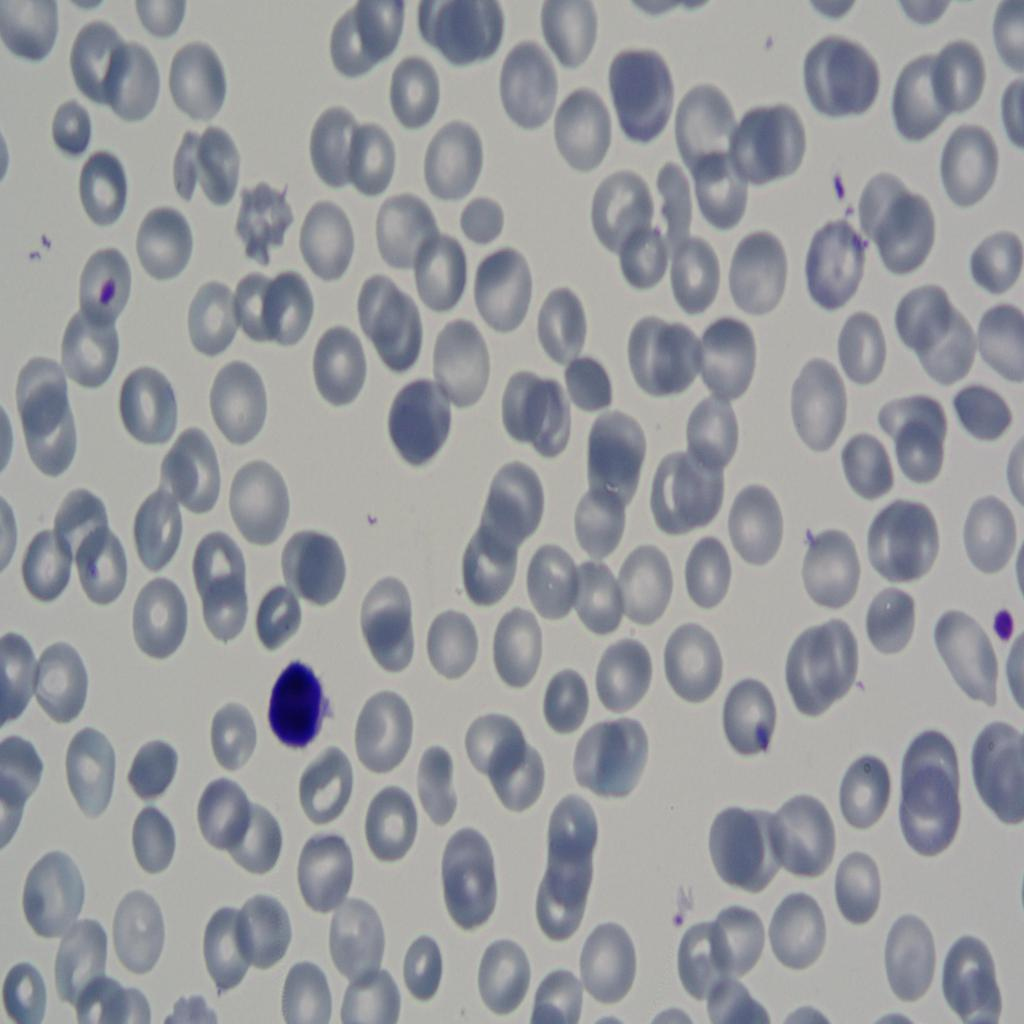Myeoblast: (257, 644, 340, 766)
Platelet: (80, 266, 126, 318), (994, 603, 1024, 662), (753, 703, 777, 766)
